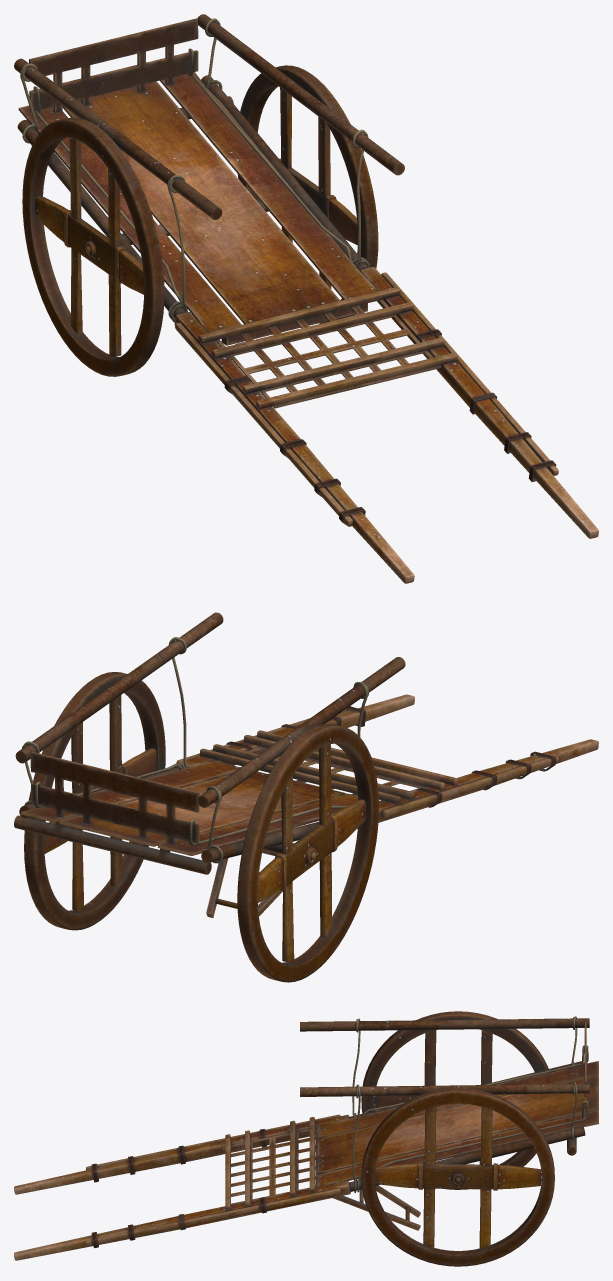
File: xi_oam_cart.gltf
The picture shows the model from 3 angles, top to bottom: view 1: azimuth 30°, elevation 25°; view 2: azimuth 150°, elevation 25°; view 3: azimuth 270°, elevation 25°; orthographic projection. The views are drawn at different scales.
Parts seen in each view (by area): view 1: xi_oam_cart; view 2: xi_oam_cart; view 3: xi_oam_cart.
Part boxes in pixels (bbox=[...]): xi_oam_cart: bbox=[14, 14, 598, 583]; xi_oam_cart: bbox=[14, 612, 598, 982]; xi_oam_cart: bbox=[14, 1011, 598, 1266].
Bounding box in the file's own units: 1.1 × 1.11 × 3.34.
Materials: 1 (1 with a texture image).
